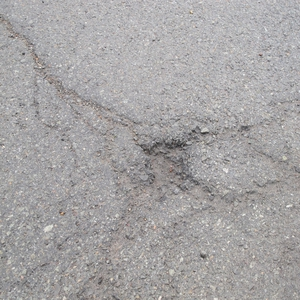pothole: (144, 140, 193, 196)
